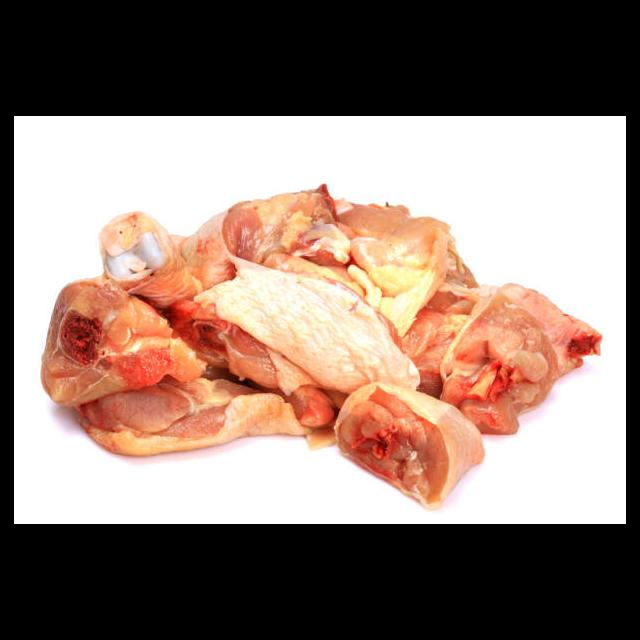chicken: (41, 181, 602, 513)
